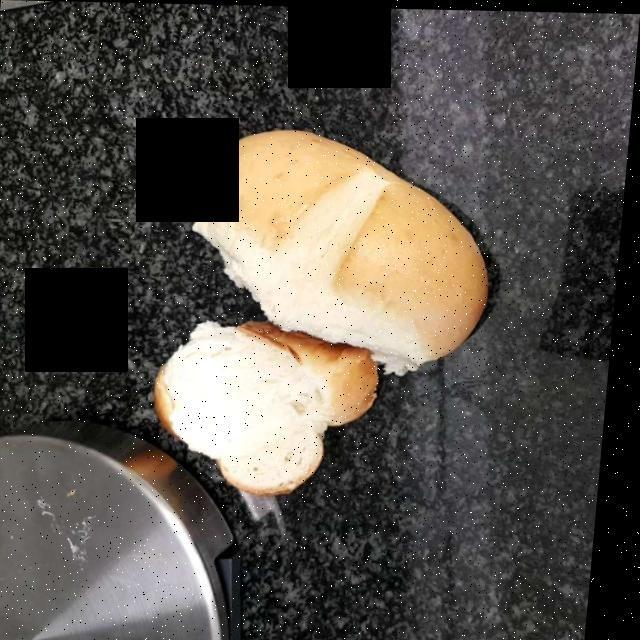bread: (157, 125, 470, 498)
